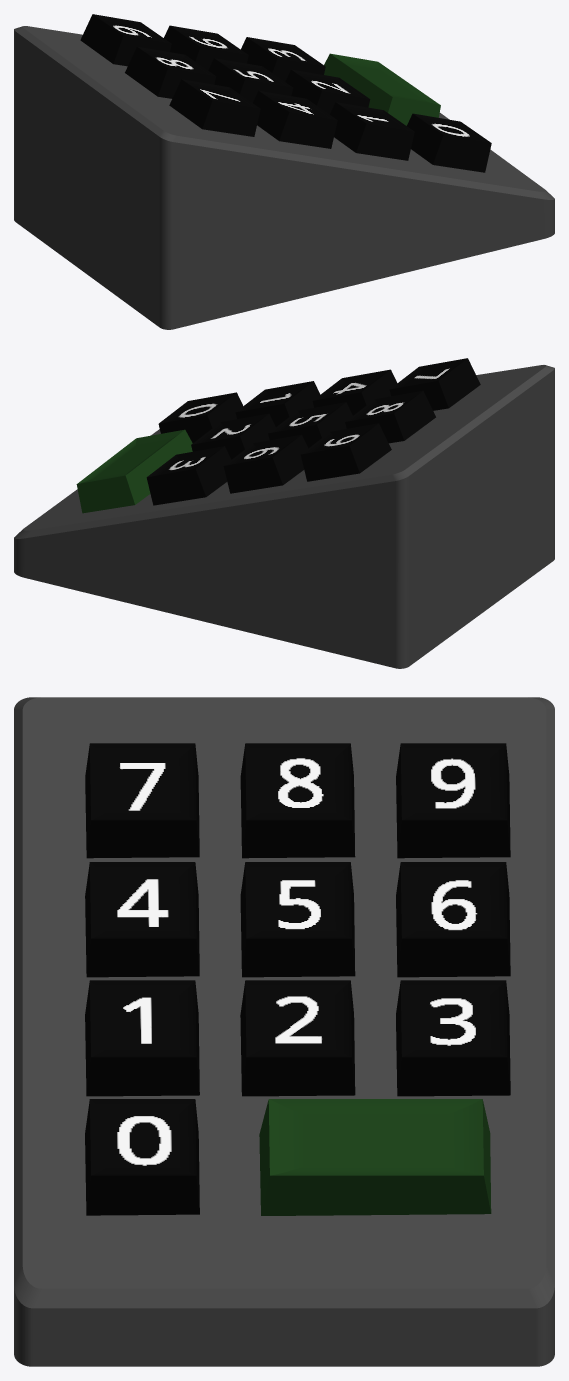
File: numpad.glb
The picture shows the model from 3 angles, top to bottom: view 1: azimuth 30°, elevation 25°; view 2: azimuth 150°, elevation 25°; view 3: azimuth 270°, elevation 25°; orthographic projection. The views are drawn at different scales.
Visible parts, largest first — view 1: Numpad, enter, num-7, num-0, num-1, num-4, num-9, num-8, num-2, num-6, num-3, num-5; view 2: Numpad, enter, num-9, num-3, num-6, num-7, num-8, num-0, num-2, num-5, num-1, num-4; view 3: Numpad, enter, num-0, num-2, num-1, num-3, num-5, num-4, num-6, num-9, num-7, num-8.
Boxes of the visible parts, <box> form: Numpad: <box>14,26,554,329</box>; enter: <box>324,53,440,125</box>; num-7: <box>169,79,260,136</box>; num-0: <box>407,113,491,172</box>; num-1: <box>330,102,414,160</box>; num-4: <box>253,90,337,148</box>; num-9: <box>80,14,171,66</box>; num-8: <box>125,46,215,98</box>; num-2: <box>285,69,370,114</box>; num-6: <box>164,25,248,70</box>; num-3: <box>241,37,325,81</box>; num-5: <box>208,58,292,102</box>; Numpad: <box>14,365,554,668</box>; enter: <box>76,429,192,513</box>; num-9: <box>300,423,391,481</box>; num-3: <box>146,446,231,505</box>; num-6: <box>223,434,308,493</box>; num-7: <box>389,358,480,410</box>; num-8: <box>345,390,435,443</box>; num-0: <box>158,392,242,443</box>; num-2: <box>191,413,275,459</box>; num-5: <box>268,402,352,448</box>; num-1: <box>235,381,320,426</box>; num-4: <box>312,369,397,415</box>; Numpad: <box>14,697,554,1366</box>; enter: <box>259,1099,491,1215</box>; num-0: <box>85,1099,199,1215</box>; num-2: <box>240,980,355,1096</box>; num-1: <box>85,980,199,1096</box>; num-3: <box>396,980,510,1096</box>; num-5: <box>240,862,355,977</box>; num-4: <box>85,862,199,977</box>; num-6: <box>396,862,510,977</box>; num-9: <box>396,743,510,858</box>; num-7: <box>85,743,199,858</box>; num-8: <box>240,743,355,858</box>.
Size of the model in its own units: 0.2048 by 0.0983 by 0.1392.
Materials: 3 (1 with a texture image).
